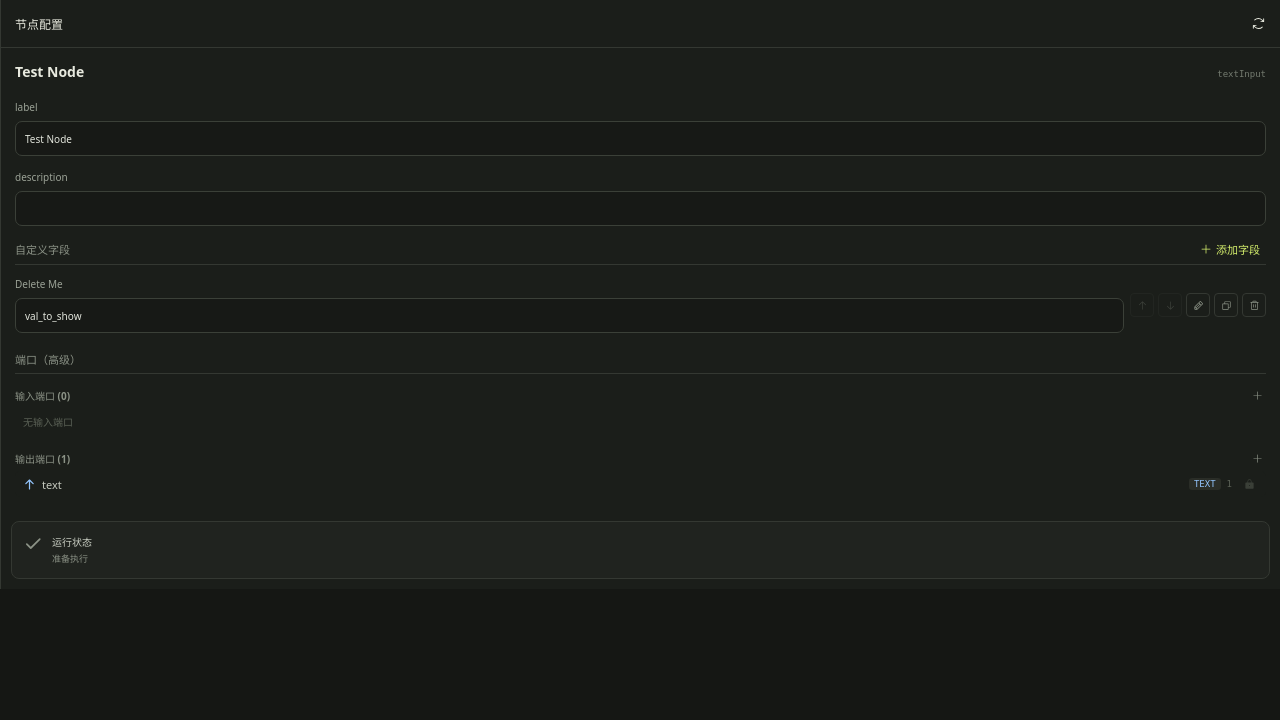
PropertyPanel › delete field shows confirmation dialog with config value and irreversibility warning
// Click the trash/delete button for the field
Click the button titled "删除". click: (1254, 305)
box: [1242,293,1266,317]
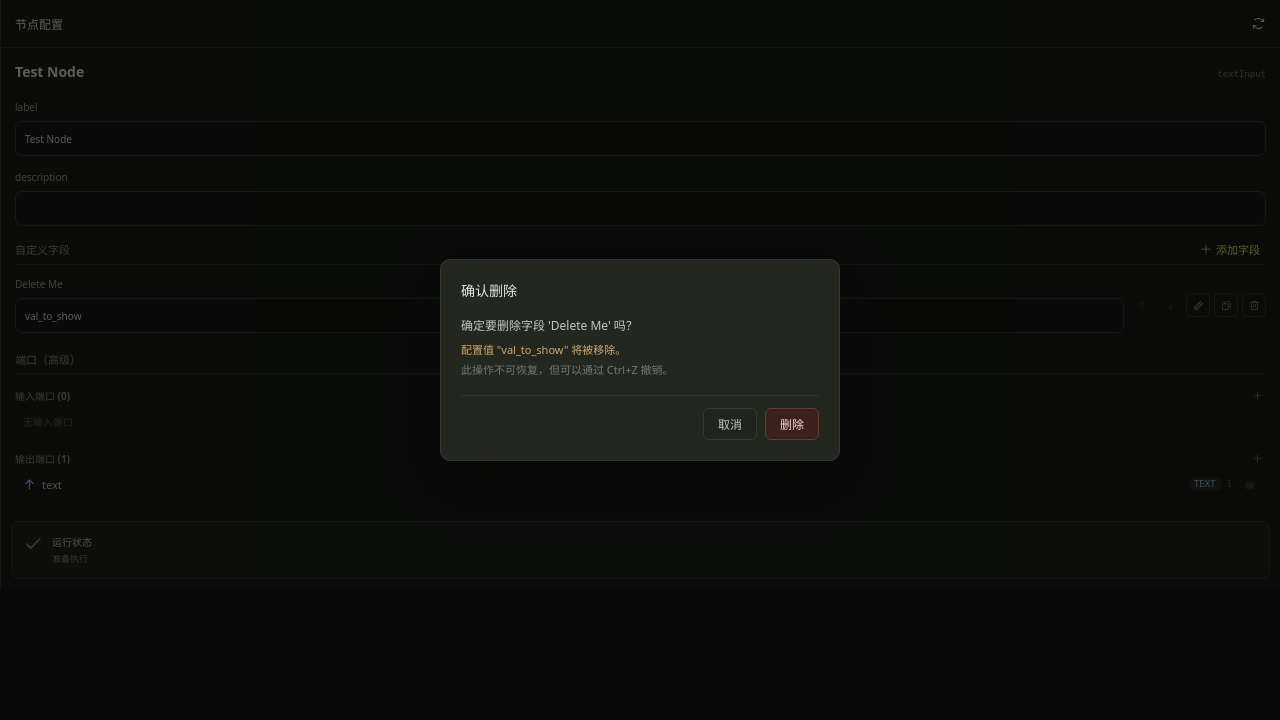
Now the heading "确认删除" is shown, box [461,281,517,300]
Now the text "确定要删除字段 'Delete Me' 吗？" is shown, box [461,317,638,334]
Now the text "配置值 \"val_to_show\" 将被移除。" is shown, box [461,342,626,357]
